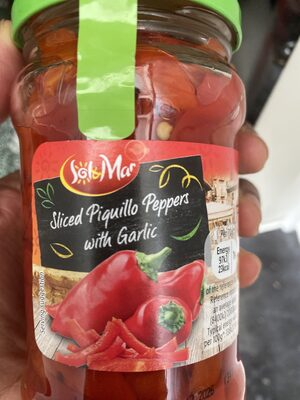eingelegte Paprika: (15, 20, 285, 380)
